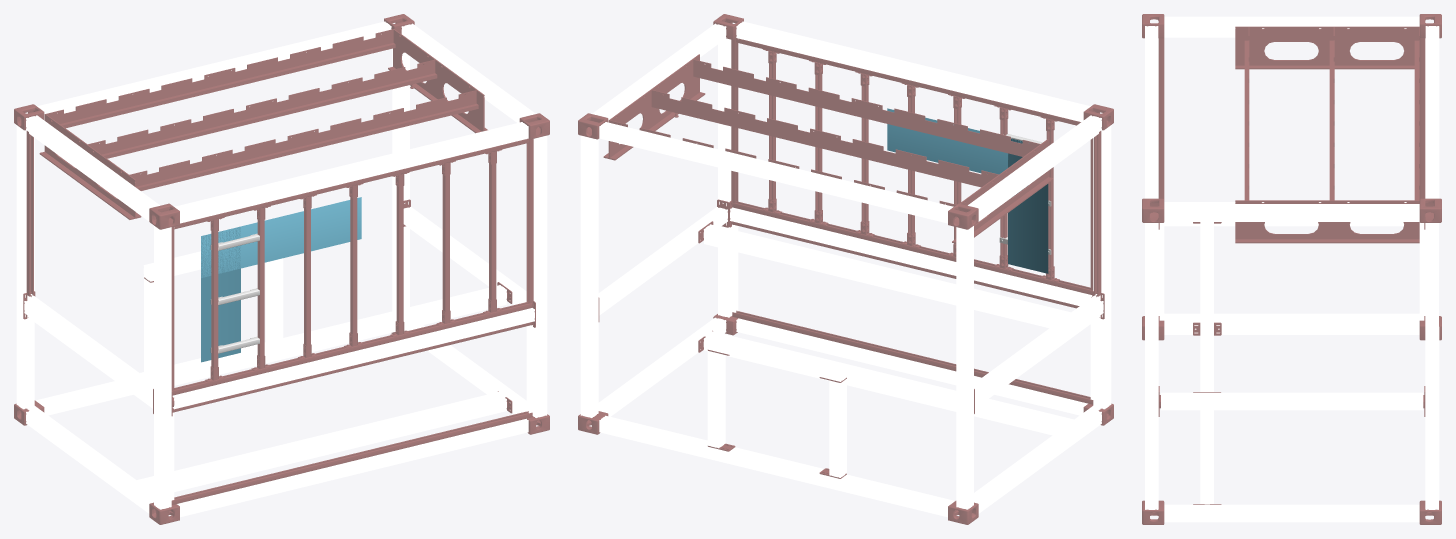
Rendered from SMM_Container_short.glb.
The picture shows the model from 3 angles, left to right: view 1: azimuth 30°, elevation 25°; view 2: azimuth 150°, elevation 25°; view 3: azimuth 270°, elevation 25°; orthographic projection. The views are drawn at different scales.
Visible parts, largest first — view 1: 3D-Volumenkörper_437, Kreis, 3D-Volumenkörper_457, 3D-Volumenkörper_521, 3D-Volumenkörper_433, 3D-Volumenkörper_431, 3D-Volumenkörper_511, 3D-Volumenkörper_427, 3D-Volumenkörper_439, Kreis_1, 3D-Volumenkörper_48, 3D-Volumenkörper_44 (+39 smaller); view 2: 3D-Volumenkörper_439, 3D-Volumenkörper_437, 3D-Volumenkörper_521, 3D-Volumenkörper_435, 3D-Volumenkörper_425, 3D-Volumenkörper_429, 3D-Volumenkörper_457, 3D-Volumenkörper_433, 3D-Volumenkörper_431, 3D-Volumenkörper_511, Kreis_1, Kreis (+31 smaller); view 3: 3D-Volumenkörper_50, 3D-Volumenkörper_477, 3D-Volumenkörper_441, 3D-Volumenkörper_443, 3D-Volumenkörper_425, 3D-Volumenkörper_427, 3D-Volumenkörper_49, 3D-Volumenkörper_445, 3D-Volumenkörper_447, 3D-Volumenkörper_439, 3D-Volumenkörper_437, 3D-Volumenkörper_521 (+20 smaller).
Boxes of the visible parts, x1,y1,x2,y2 form: 3D-Volumenkörper_437: (174, 122, 528, 223); Kreis: (201, 197, 361, 277); 3D-Volumenkörper_457: (172, 308, 534, 409); 3D-Volumenkörper_521: (140, 285, 506, 383); 3D-Volumenkörper_433: (177, 418, 528, 517); 3D-Volumenkörper_431: (154, 226, 171, 509); 3D-Volumenkörper_511: (144, 397, 506, 492); 3D-Volumenkörper_427: (532, 135, 547, 417); 3D-Volumenkörper_439: (37, 21, 391, 120); Kreis_1: (201, 226, 240, 362); 3D-Volumenkörper_48: (261, 59, 437, 120); 3D-Volumenkörper_44: (220, 29, 395, 89); 3D-Volumenkörper_439: (599, 122, 953, 223); 3D-Volumenkörper_437: (736, 21, 1090, 121); 3D-Volumenkörper_521: (703, 224, 1070, 325); 3D-Volumenkörper_435: (599, 415, 954, 517); 3D-Volumenkörper_425: (580, 135, 598, 417); 3D-Volumenkörper_429: (956, 226, 973, 509); 3D-Volumenkörper_457: (730, 207, 1092, 305); 3D-Volumenkörper_433: (736, 318, 1087, 415); 3D-Volumenkörper_431: (1093, 125, 1111, 409); 3D-Volumenkörper_511: (703, 337, 1066, 435); Kreis_1: (1008, 138, 1048, 273); Kreis: (887, 108, 1029, 174); 3D-Volumenkörper_50: (1235, 26, 1419, 69); 3D-Volumenkörper_477: (1161, 392, 1423, 410); 3D-Volumenkörper_441: (1164, 504, 1419, 522); 3D-Volumenkörper_443: (1164, 204, 1419, 221); 3D-Volumenkörper_425: (1425, 223, 1438, 509); 3D-Volumenkörper_427: (1145, 223, 1158, 509); 3D-Volumenkörper_49: (1235, 200, 1419, 243); 3D-Volumenkörper_445: (1164, 320, 1419, 334); 3D-Volumenkörper_447: (1164, 16, 1419, 34); 3D-Volumenkörper_439: (1425, 26, 1439, 198); 3D-Volumenkörper_437: (1145, 26, 1158, 198); 3D-Volumenkörper_521: (1200, 222, 1213, 391).
Size of what is drawn, in the model's own units: 3.38 by 2.56 by 2.19.
